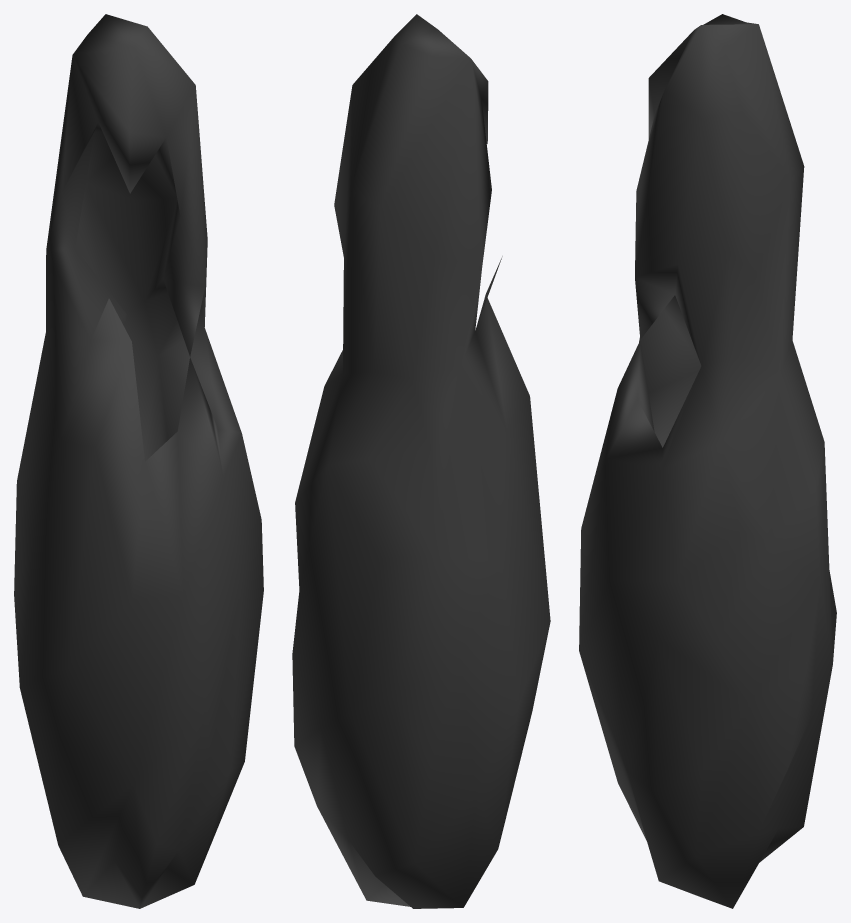
File: shoot-1.glb
3 views of the same model, side by side, from view 1: azimuth 30°, elevation 25°; view 2: azimuth 150°, elevation 25°; view 3: azimuth 270°, elevation 25° (orthographic).
Visible parts, largest first — view 1: geometry_0; view 2: geometry_0; view 3: geometry_0.
Boxes of the visible parts, bbox=[...] form: geometry_0: bbox=[14, 14, 263, 908]; geometry_0: bbox=[292, 14, 550, 908]; geometry_0: bbox=[579, 14, 836, 908].
Size of the model in its own units: 0.2573 by 1 by 0.2667.
1 material, 1 textured.
